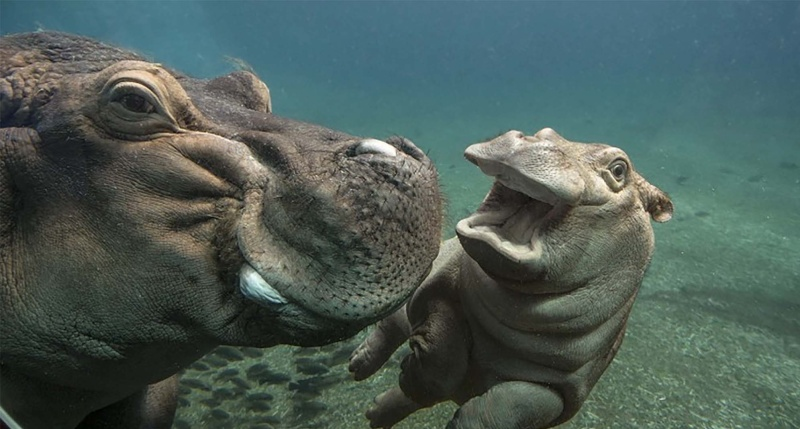hipopotamo: (0, 8, 445, 424), (354, 117, 681, 426)
